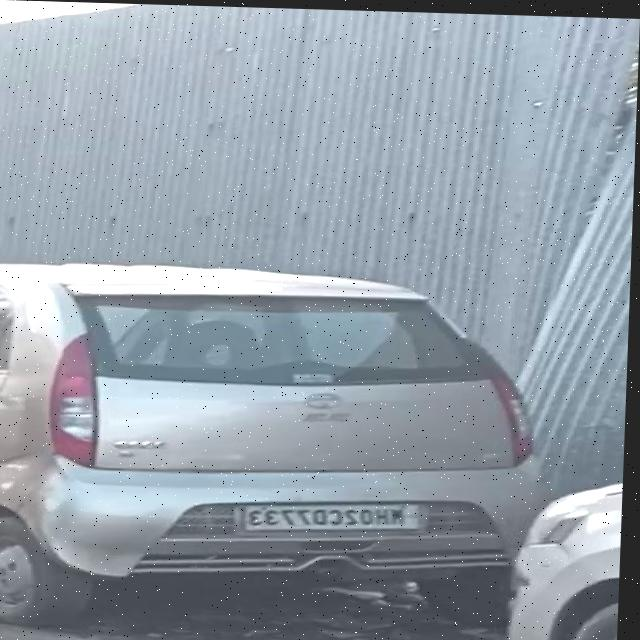plate: (233, 498, 429, 534)
